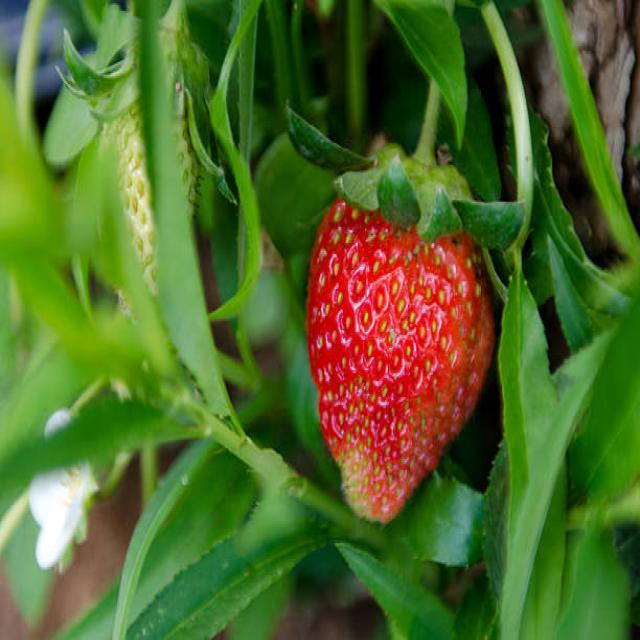Healthy Fruit: (306, 194, 496, 523)
